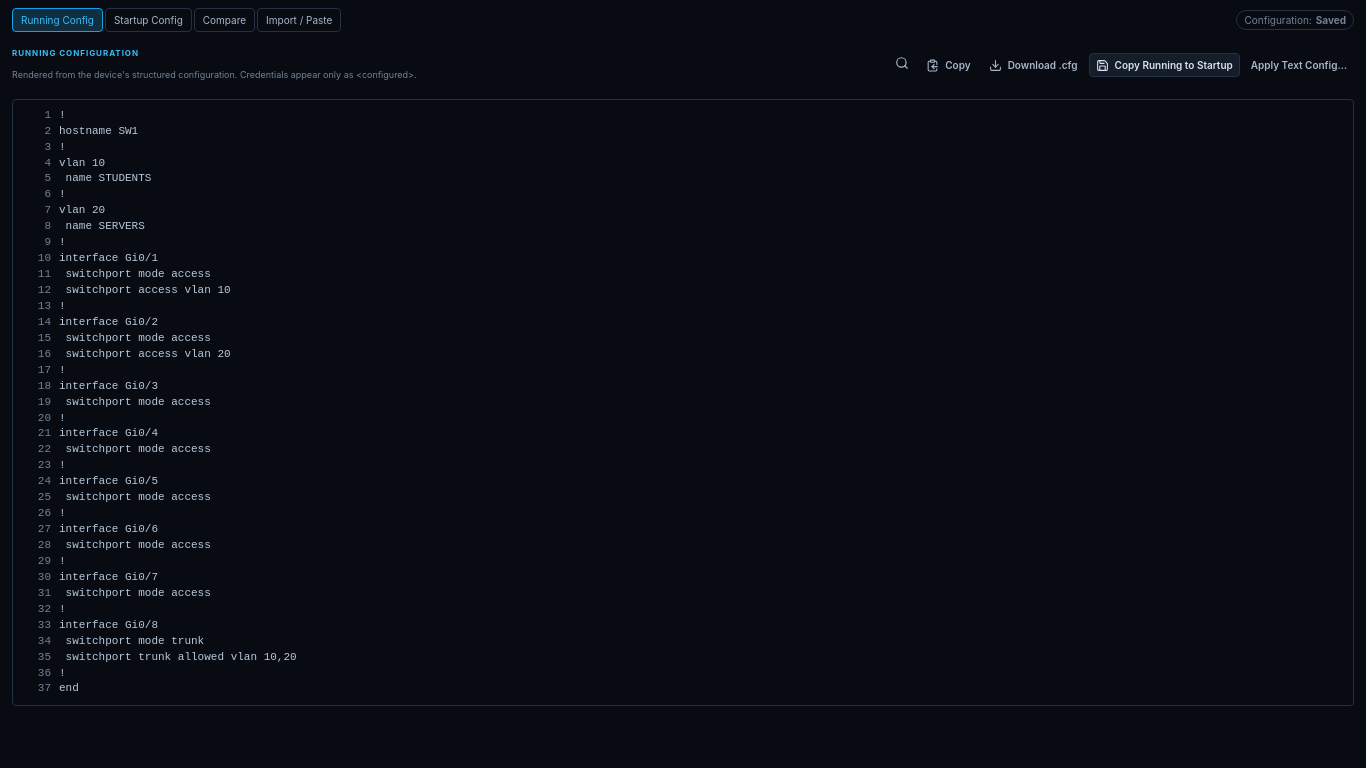
Test: device configuration workspace › copies running to startup and reports the device as saved
This screenshot has width=1366, height=768.
Expected: the navigation bar named "Configuration sections" is shown, [12,8,341,32]
Step 1. Click the button "Copy Running to Startup" → [1164, 65], box [1088,53,1240,77]
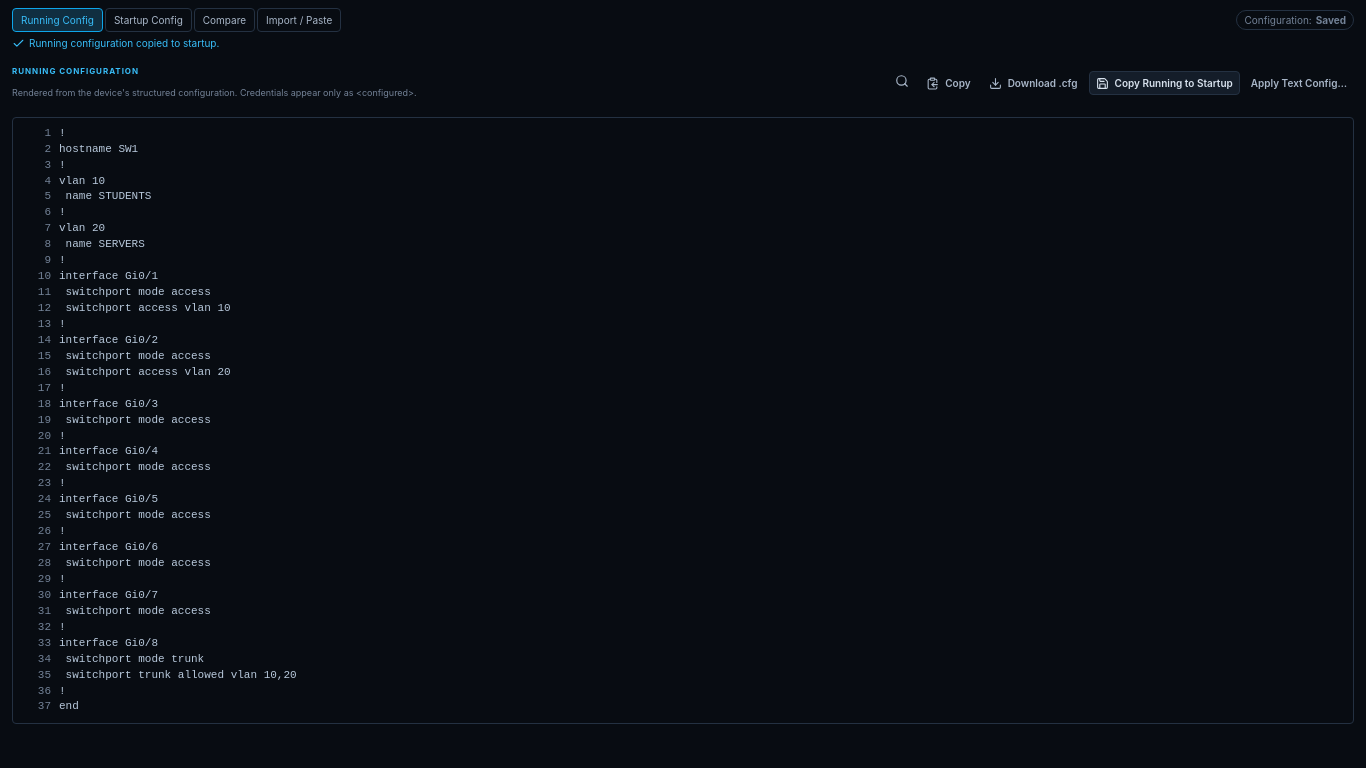
Expected: the element titled "Saved" is shown, [1316,14,1346,26]
Expected: the text "Running configuration copied to startup." is shown, [12,36,219,50]
